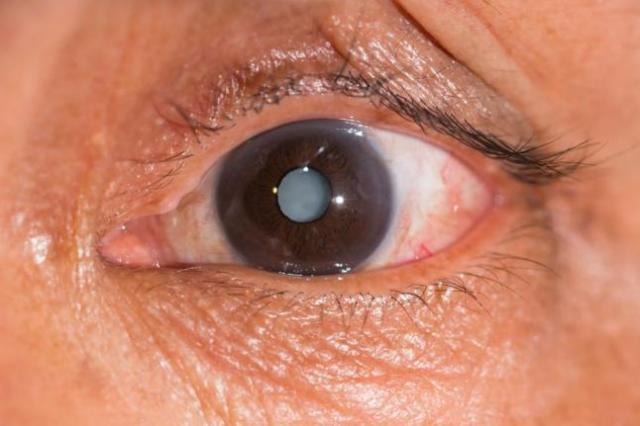eye: (216, 114, 388, 276)
